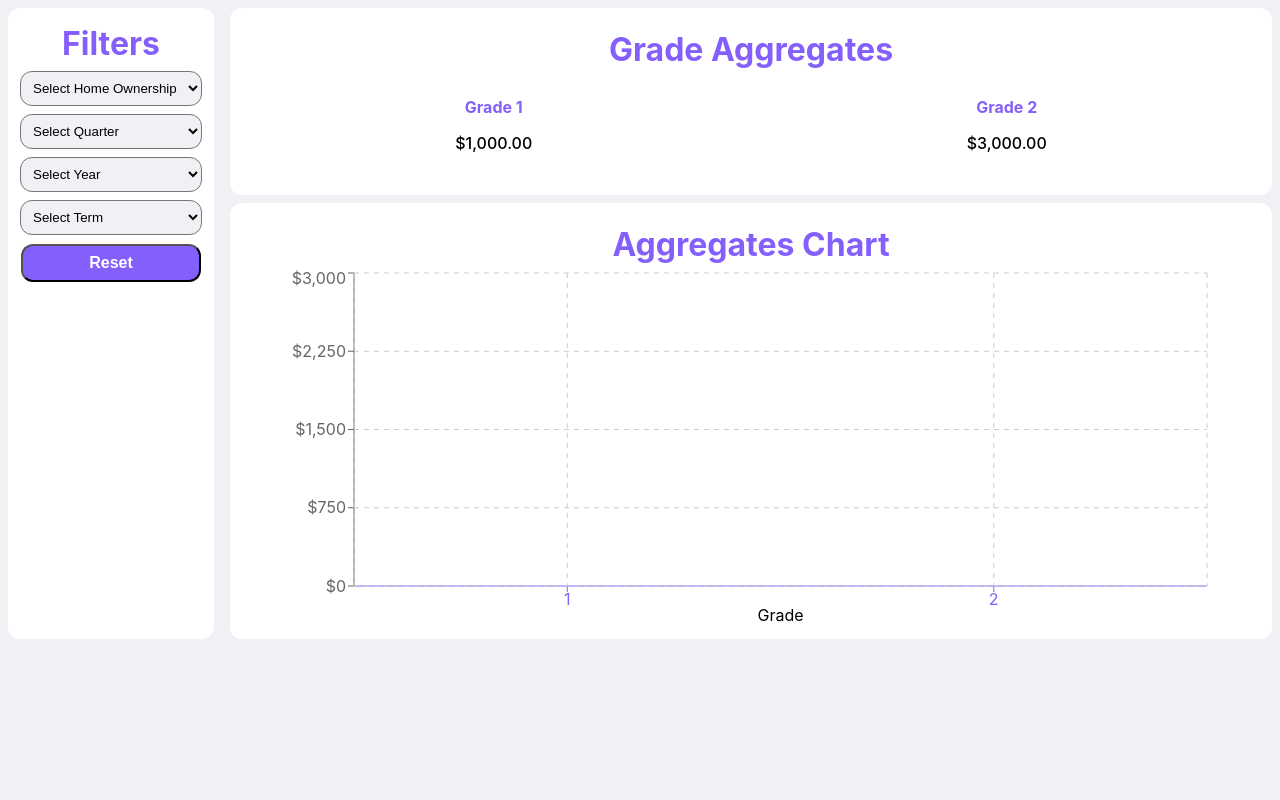
Scenario: Filter functionality › filters year
The width and height of the screenshot is (1280, 800).
Check: the text "$1,000.00" is shown, box [455,133,532,153]
Check: the text "$3,000.00" is shown, box [967,133,1047,153]
Select "2020" in the dropdown with test id "select-year" at (111,174), box [20,157,202,192]
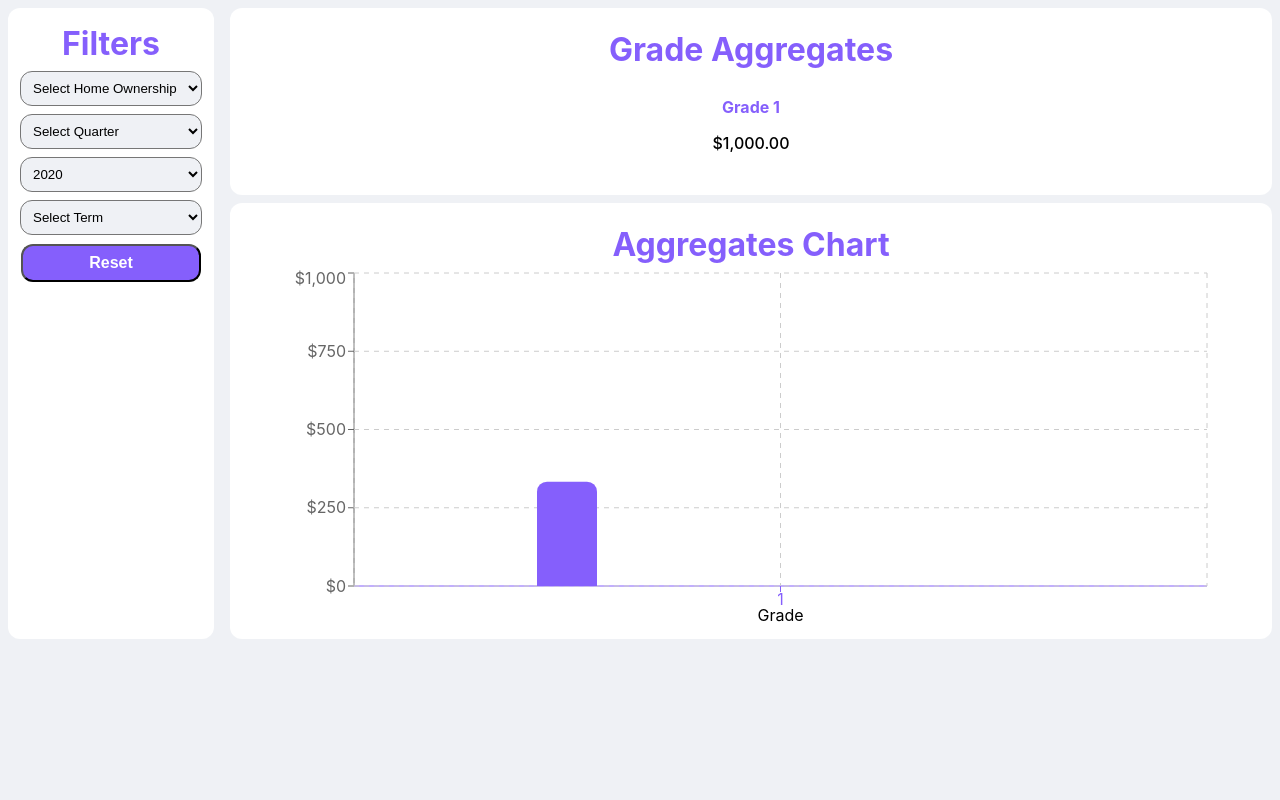
Check: the text "$1,000.00" is shown, box [712,133,790,153]
Check: the text "$3,000.00" is gone
Select "2021" in the dropdown with test id "select-year" at (111,174), box [20,157,202,192]
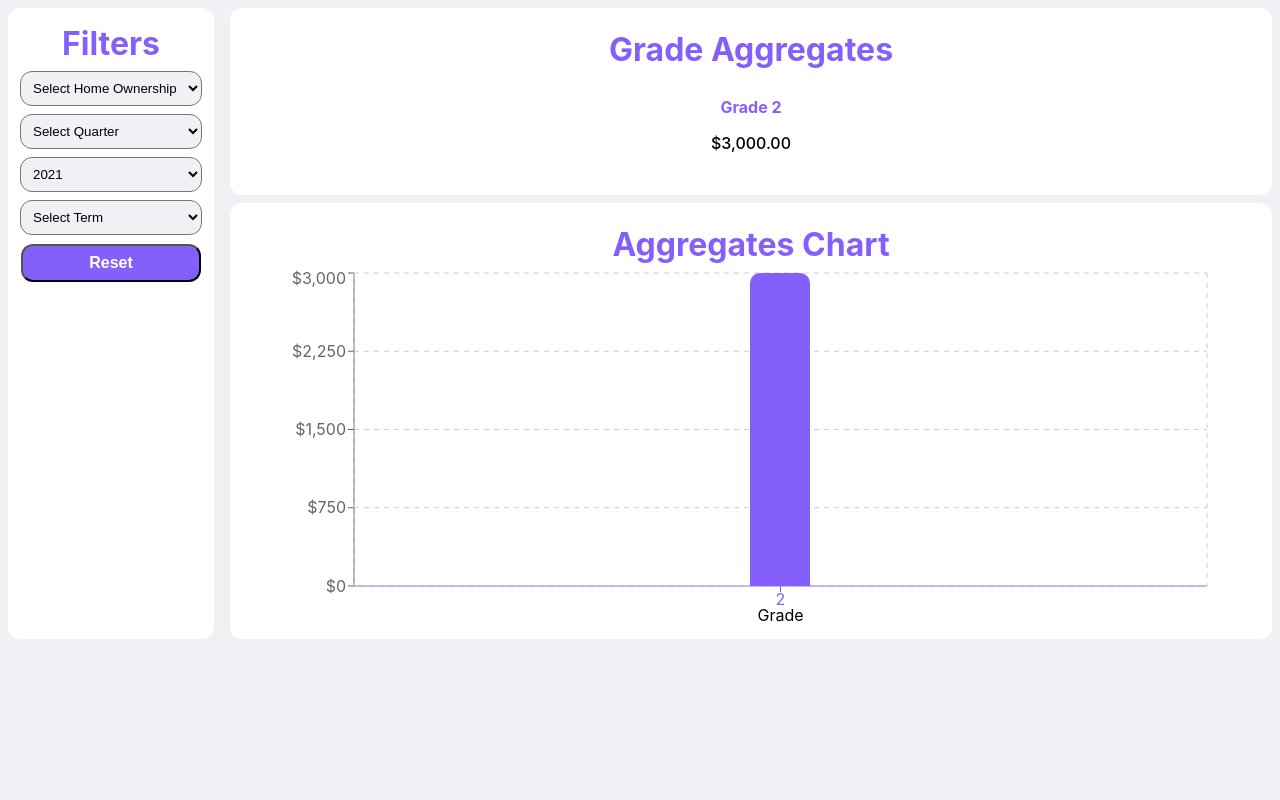
Check: the text "$3,000.00" is shown, box [711,133,791,153]
Check: the text "$1,000.00" is gone
